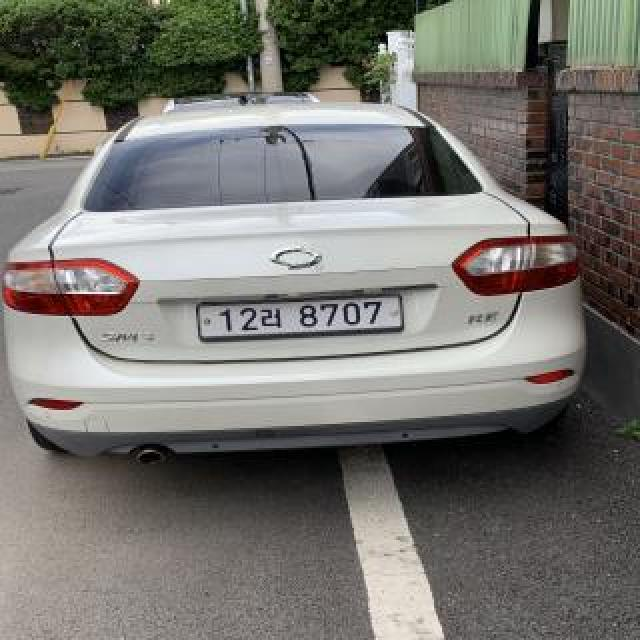car: (0, 96, 596, 467)
illegal_plate: (195, 292, 410, 346)
